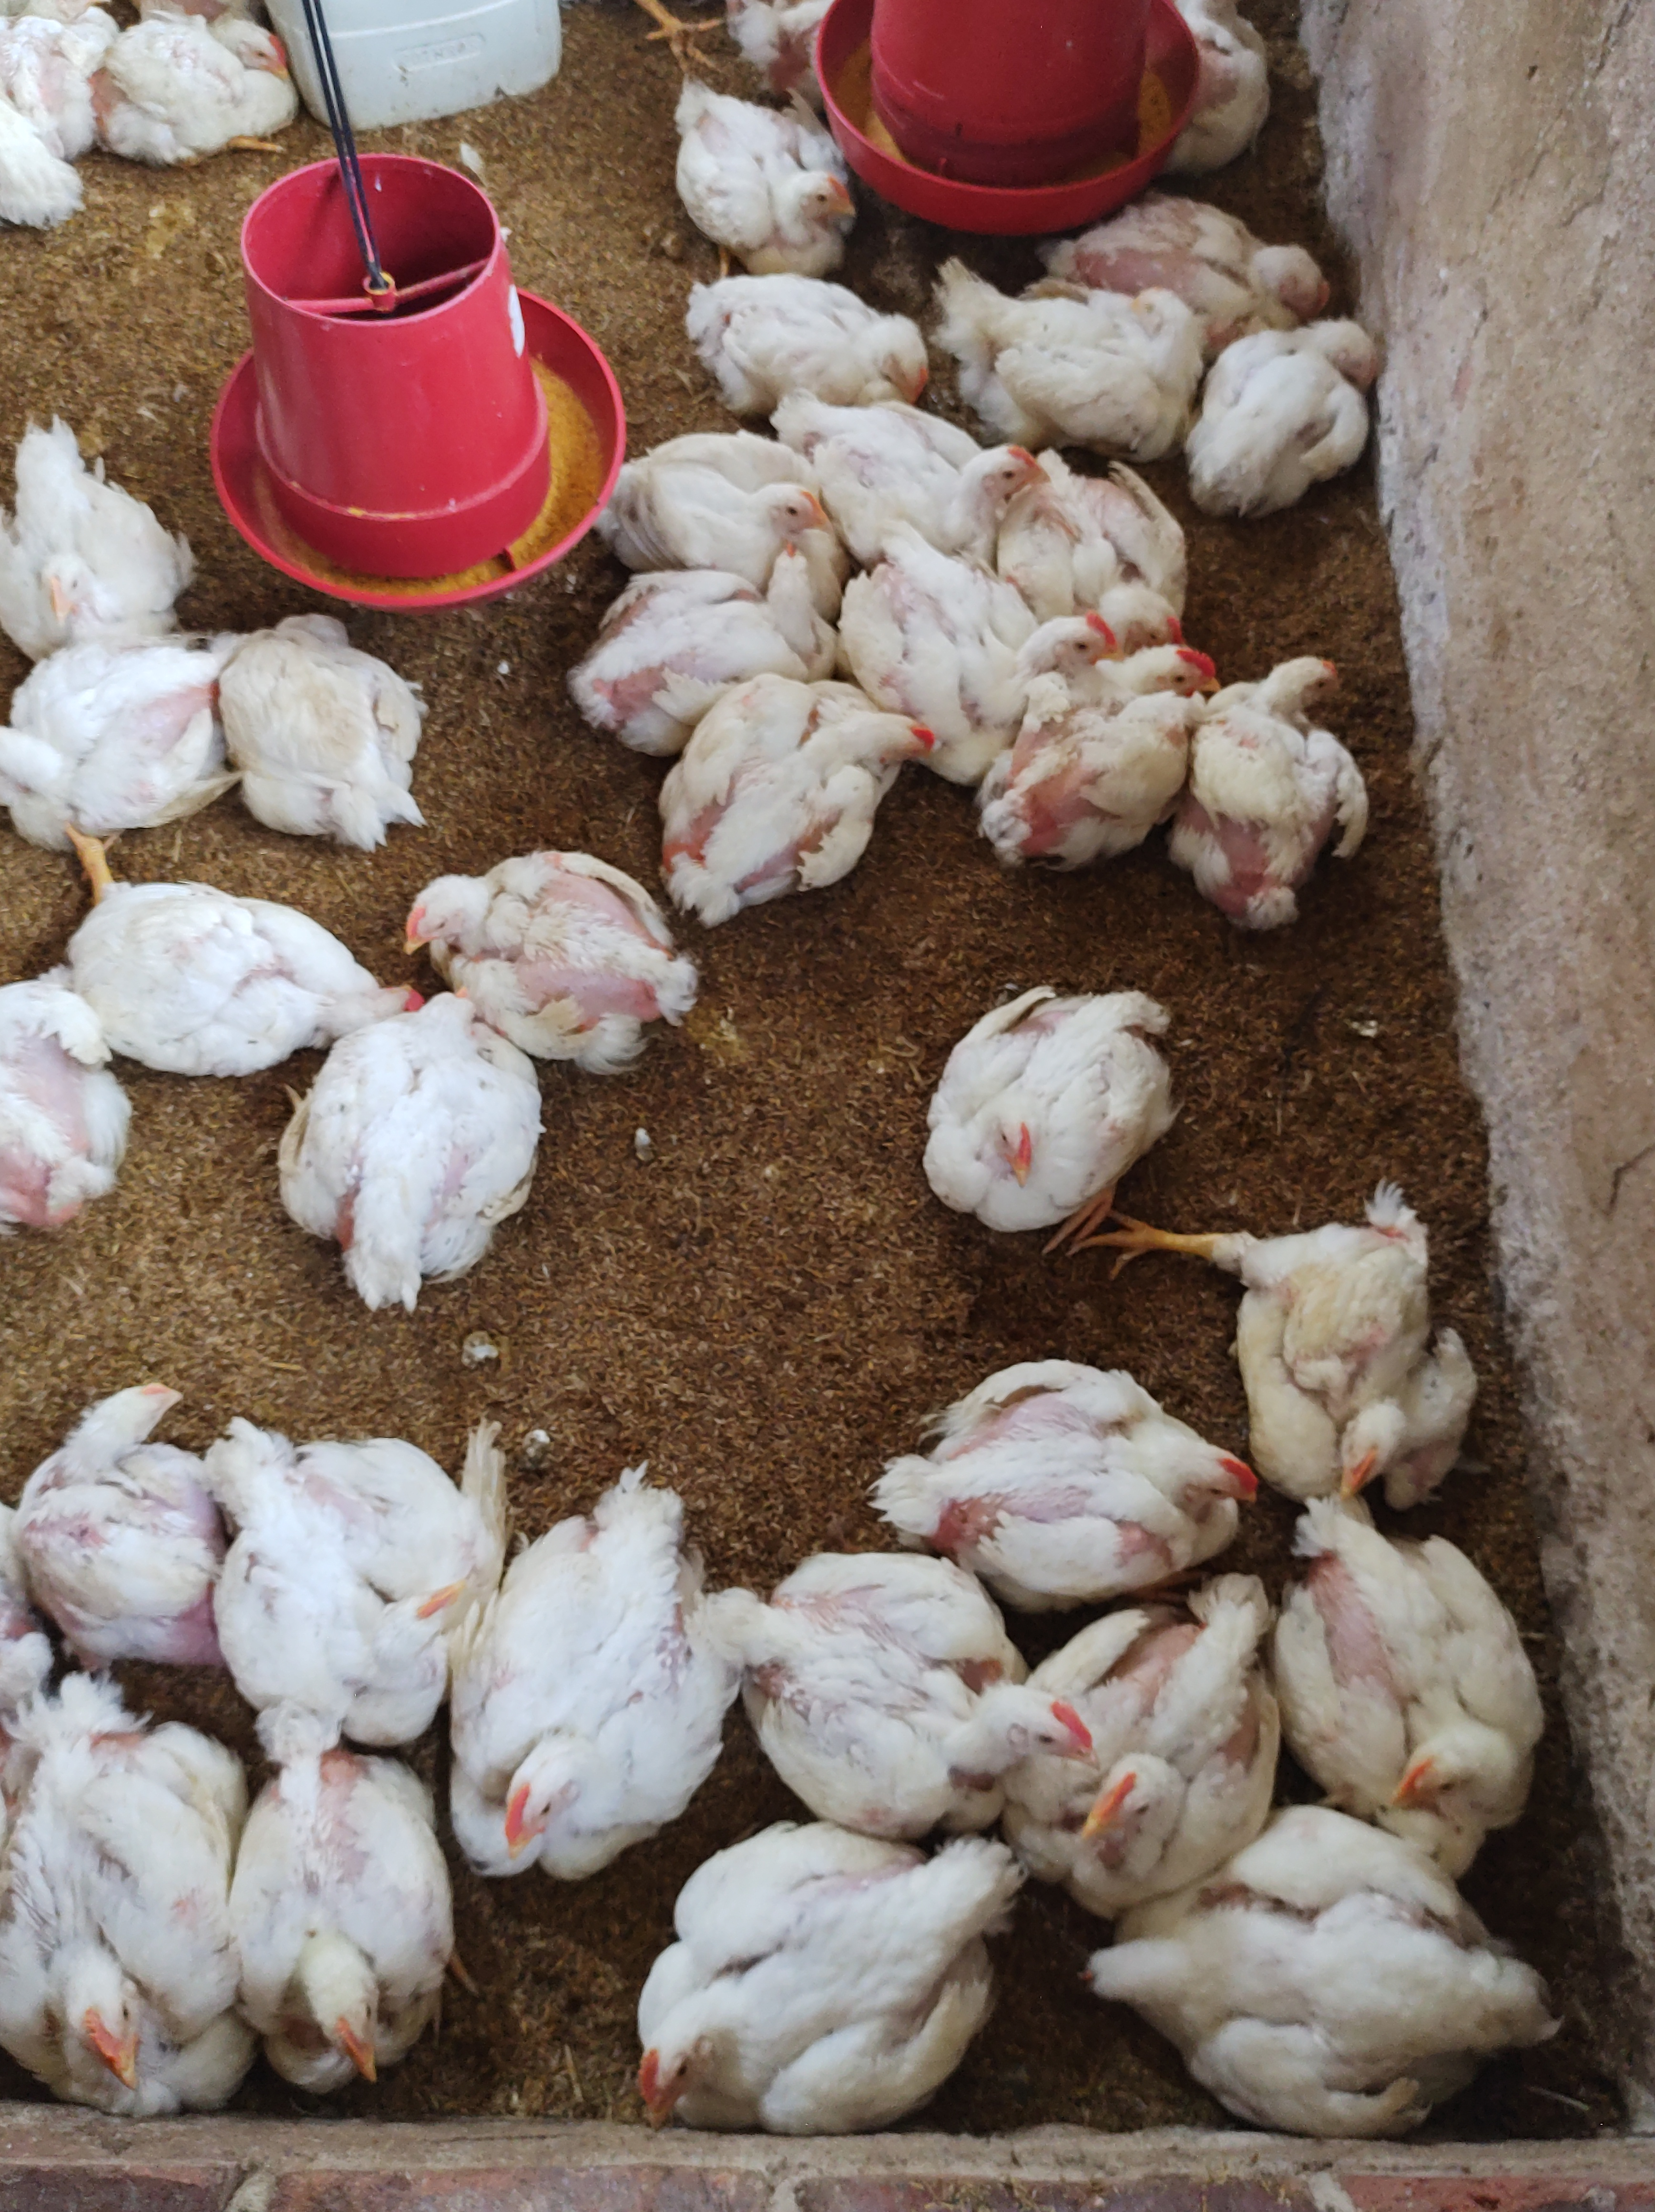Pollos: (1078, 1849, 1579, 2137), (612, 1826, 1059, 2132), (462, 1462, 770, 1875), (10, 1692, 256, 2127), (741, 1532, 1083, 1842), (242, 1725, 485, 2115), (888, 1365, 1273, 1591), (216, 1407, 469, 1744), (71, 842, 421, 1080), (292, 1014, 567, 1309), (1297, 1504, 1526, 1849), (415, 817, 701, 1087), (1026, 1579, 1274, 1885), (1262, 1179, 1490, 1511), (909, 984, 1189, 1245), (2, 1360, 228, 1676), (673, 676, 928, 932), (909, 226, 1206, 431), (228, 596, 440, 843), (7, 628, 243, 847), (586, 548, 821, 755), (972, 656, 1206, 861), (3, 407, 198, 650), (1196, 296, 1410, 511), (1210, 657, 1373, 934), (652, 68, 862, 257), (0, 976, 150, 1242), (683, 252, 942, 405), (1066, 177, 1337, 318), (855, 572, 1144, 703), (101, 14, 334, 172), (1113, 2, 1299, 172), (850, 386, 1041, 546), (608, 436, 833, 562), (1097, 466, 1226, 650)
